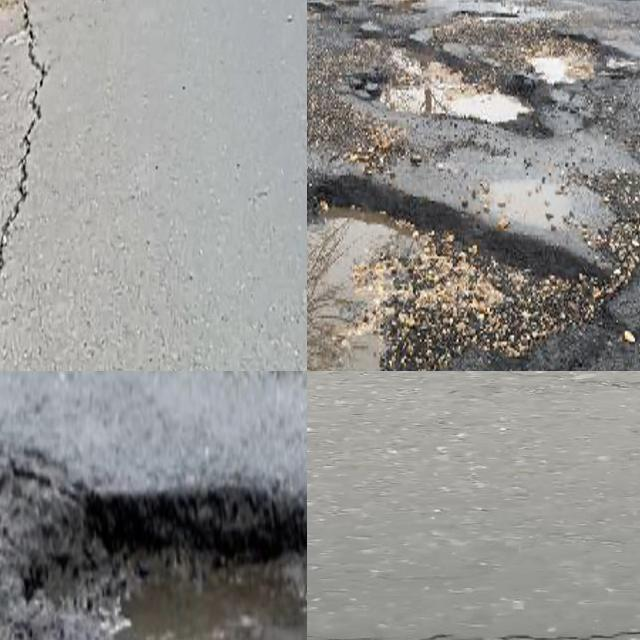Lubang: (307, 178, 619, 371), (28, 492, 307, 640), (367, 51, 551, 129), (515, 35, 618, 85)
Melintang: (319, 612, 640, 640)
Memanjang: (0, 0, 58, 315)
